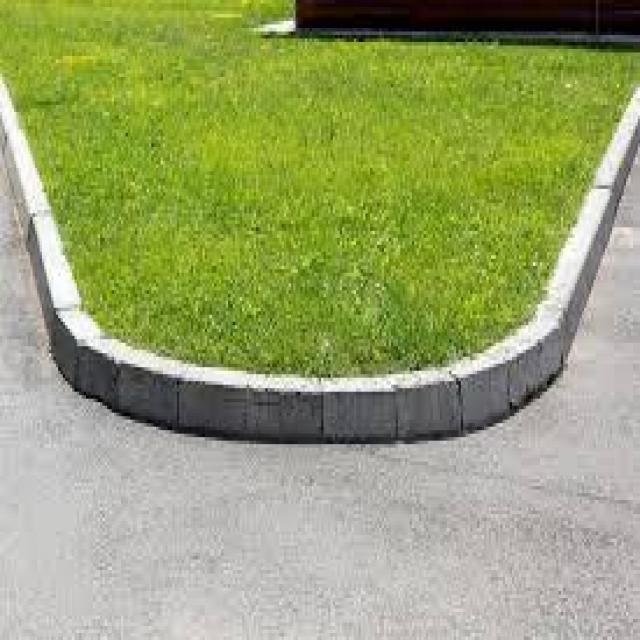curb: (130, 356, 494, 450), (45, 287, 130, 414), (6, 168, 74, 293), (482, 339, 567, 416), (531, 264, 592, 353), (560, 197, 612, 268), (592, 127, 637, 199)
